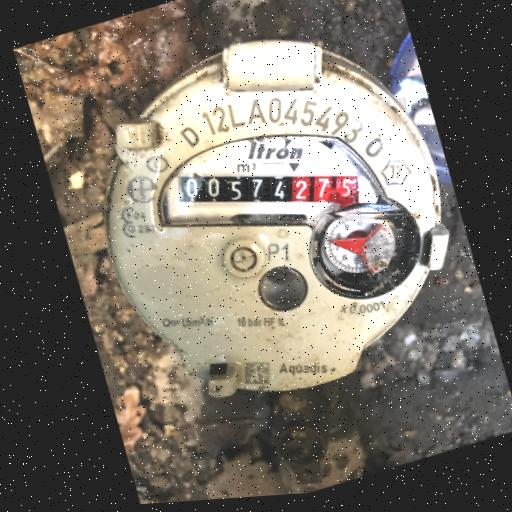0: (175, 170, 209, 207), (197, 170, 230, 207)
2: (285, 170, 318, 208)
4: (263, 170, 295, 207)
5: (327, 170, 367, 215), (218, 170, 253, 209)
7: (242, 170, 275, 207), (306, 171, 339, 208)
border_water_meter_number: (161, 117, 376, 265)
